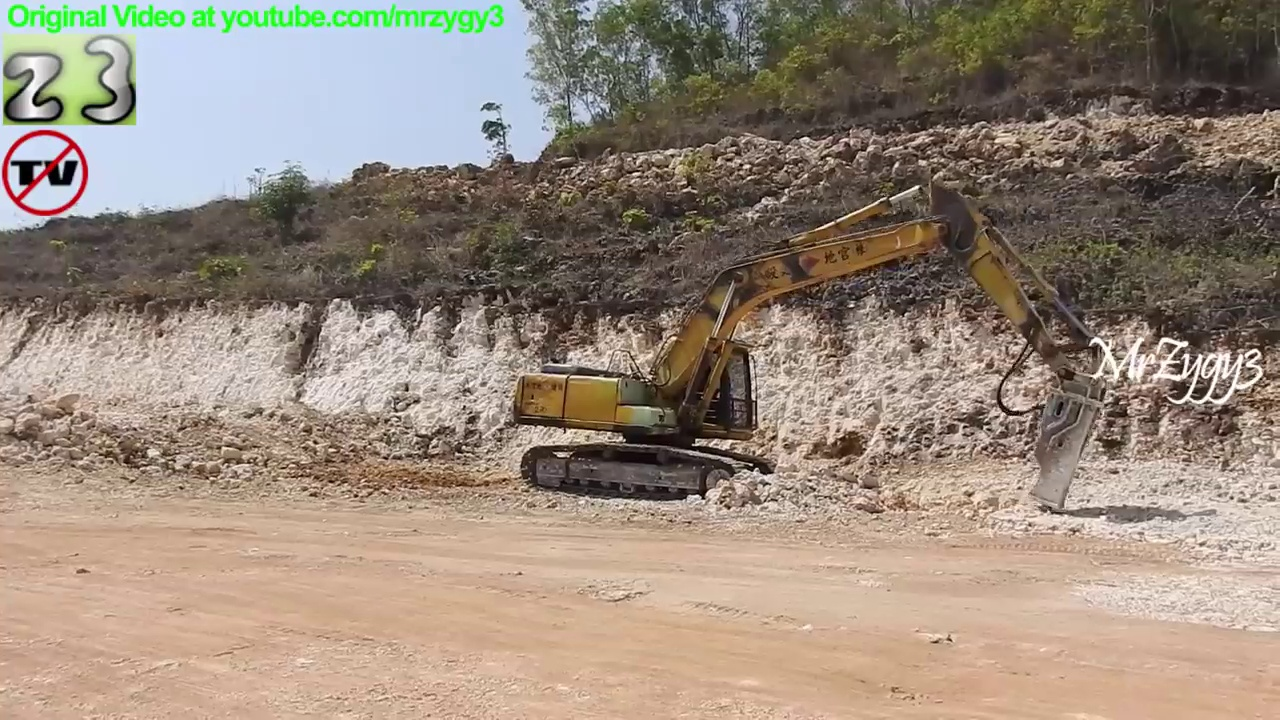excavator breaker: (505, 174, 1115, 527)
